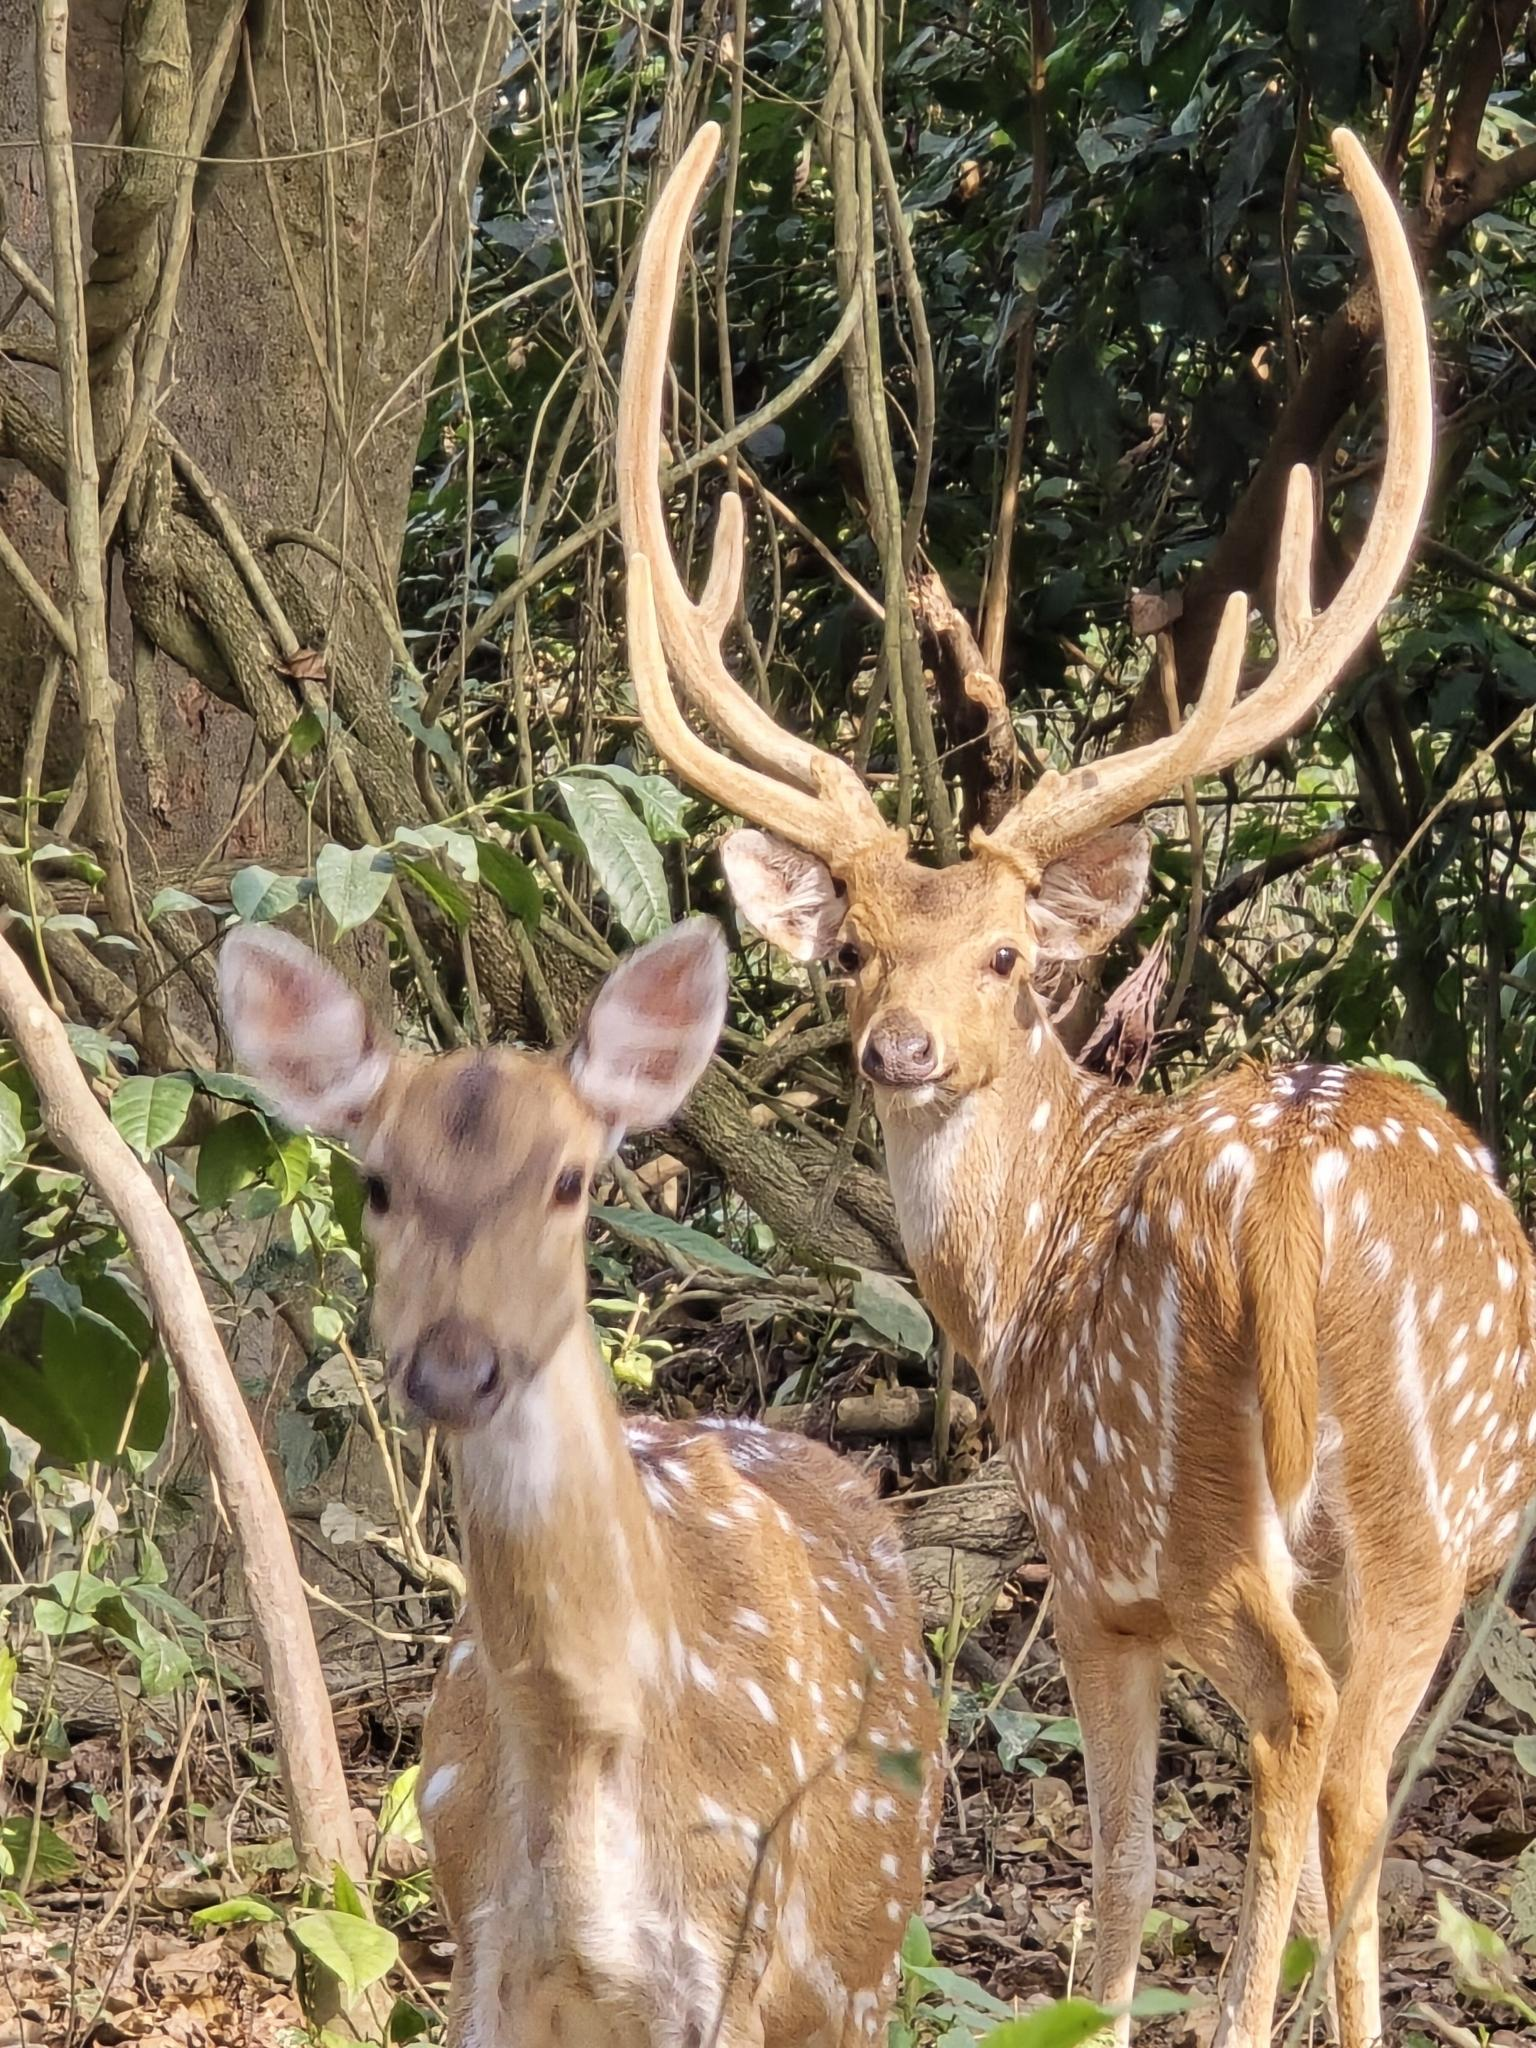Deer: (616, 126, 1534, 2046), (218, 918, 944, 2046)
